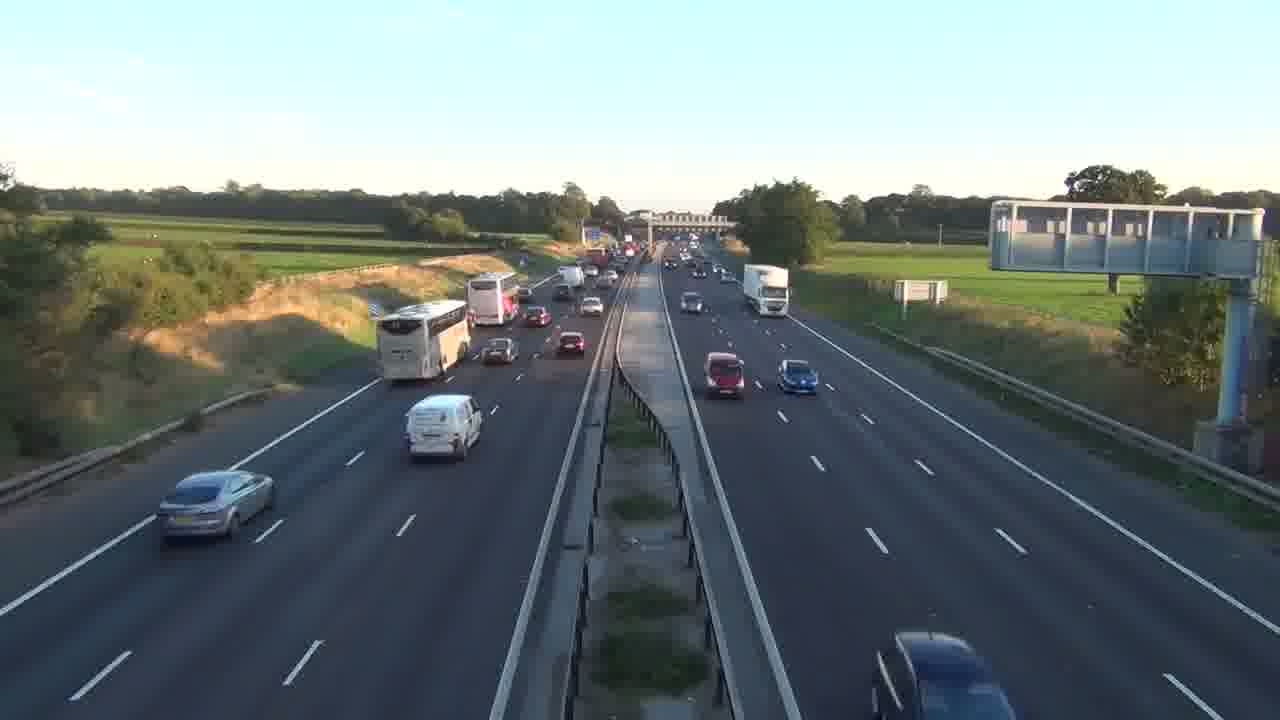car: (158, 469, 275, 542), (777, 359, 819, 396), (479, 337, 517, 366)
truck: (377, 299, 472, 383), (404, 393, 483, 463), (742, 264, 790, 317)
